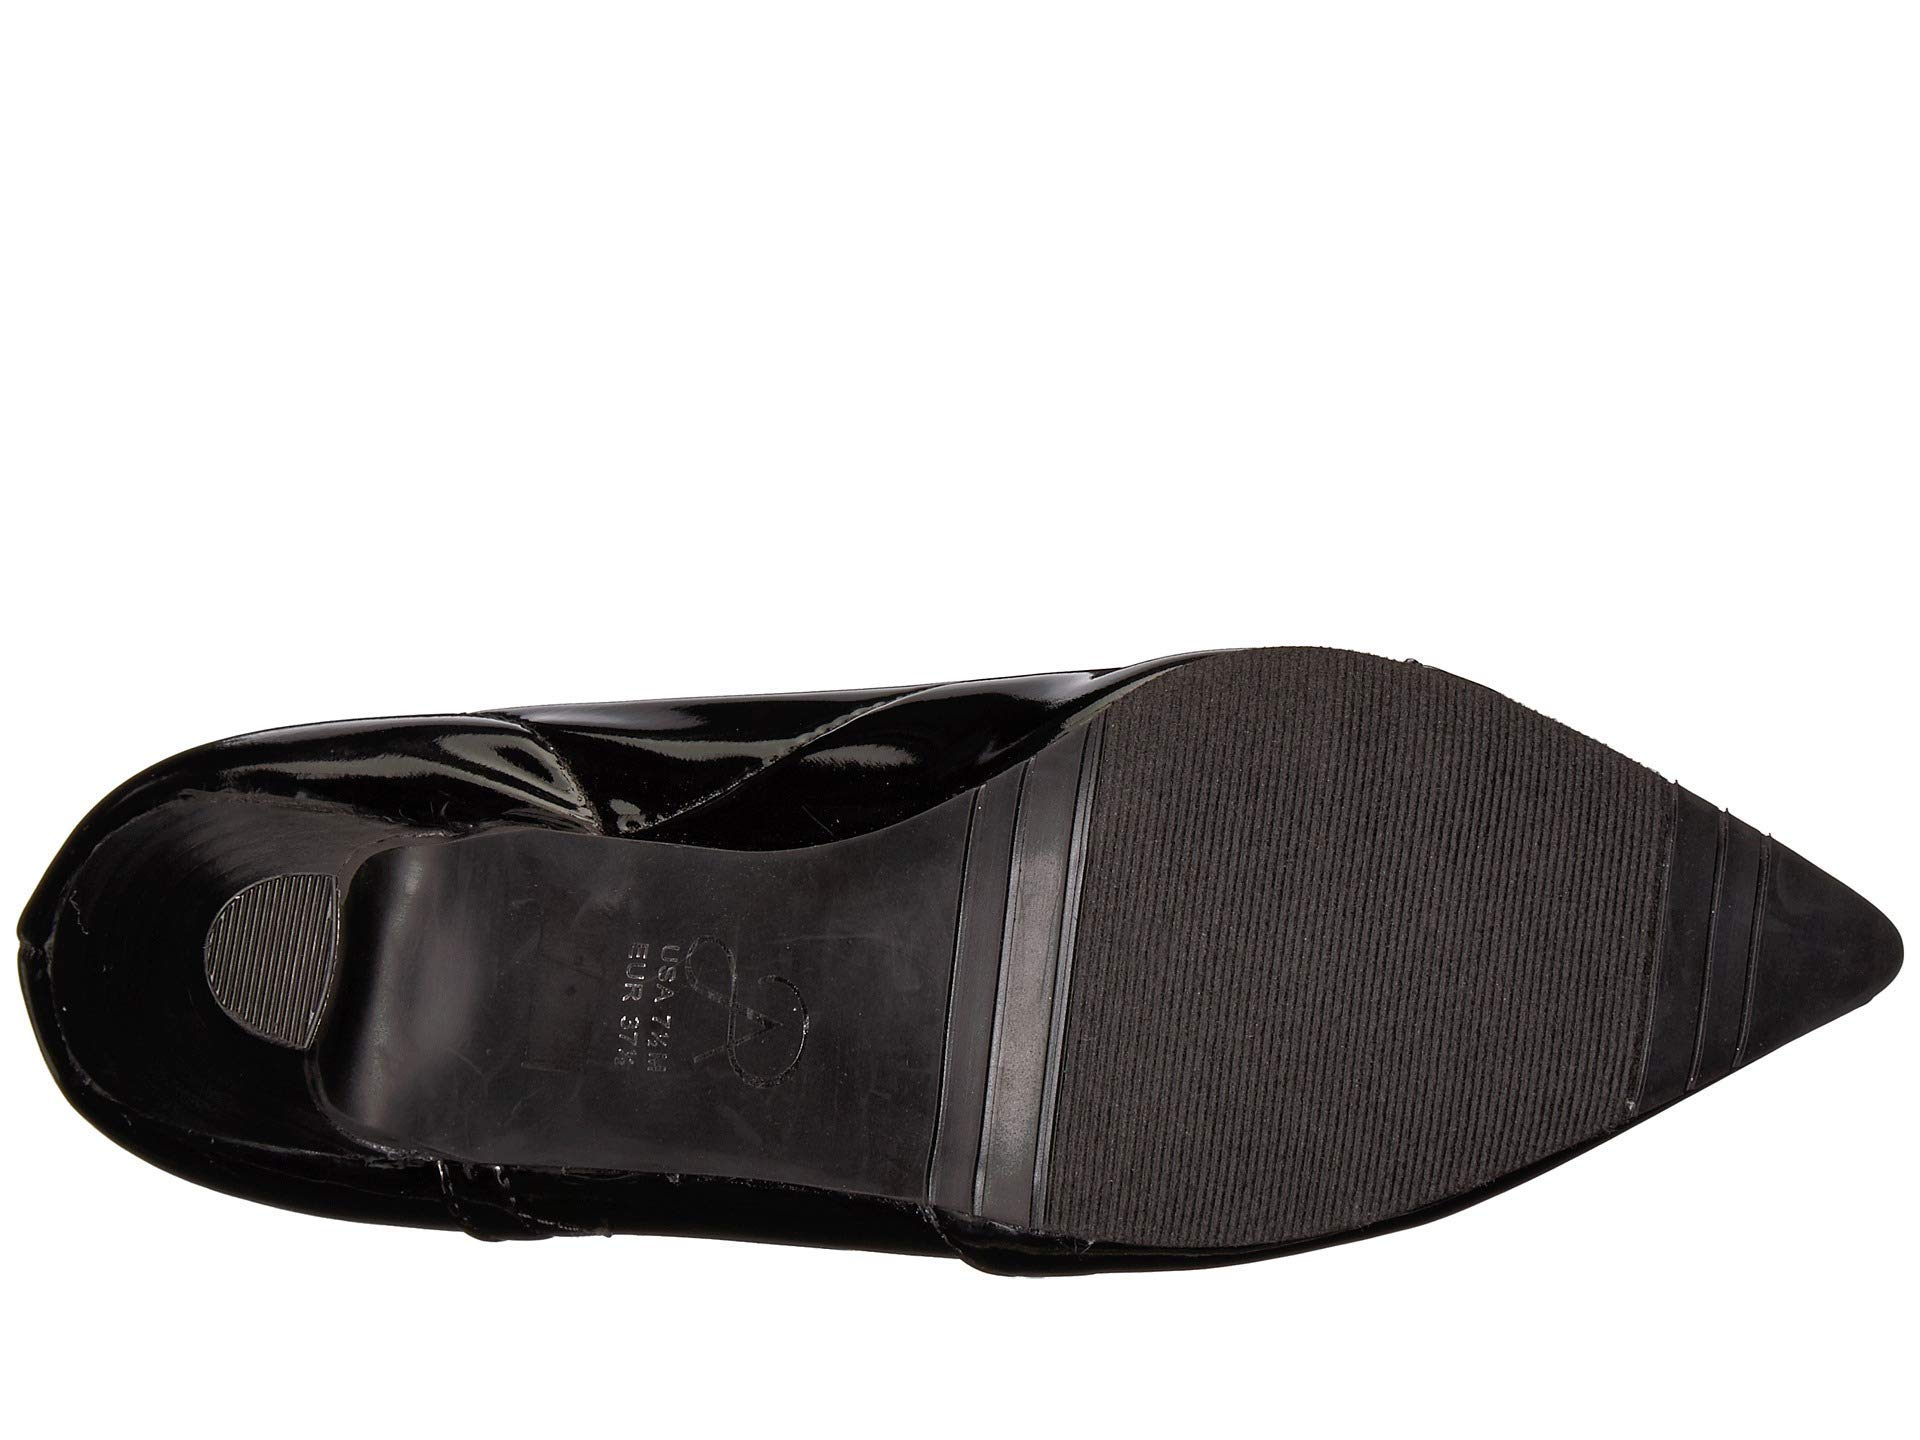line: (1135, 706, 1507, 1162), (1538, 781, 1672, 1094)
